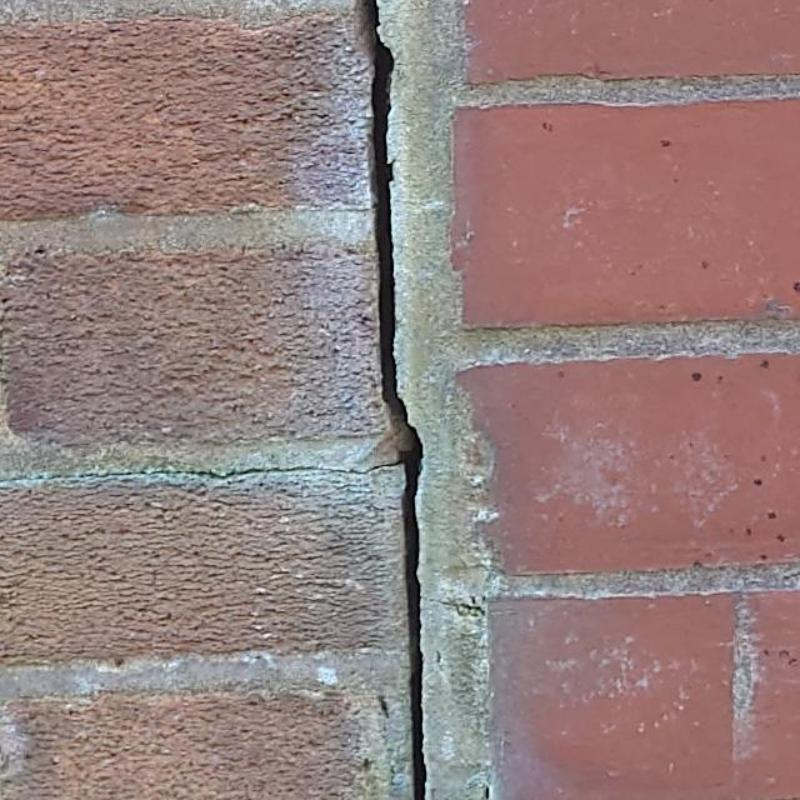pothole: (362, 0, 425, 799), (0, 460, 400, 484)
